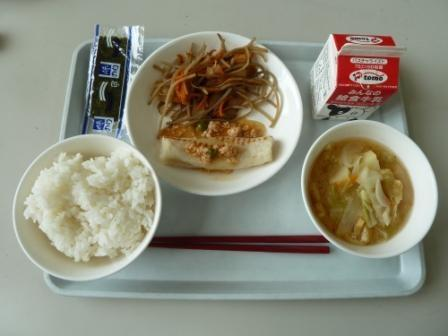Milk: (304, 25, 404, 127)
Rice: (13, 139, 168, 278)
Soups: (301, 122, 436, 254)
cooked food based on meat: (153, 118, 284, 184)
salad with sauce: (147, 33, 277, 120)
